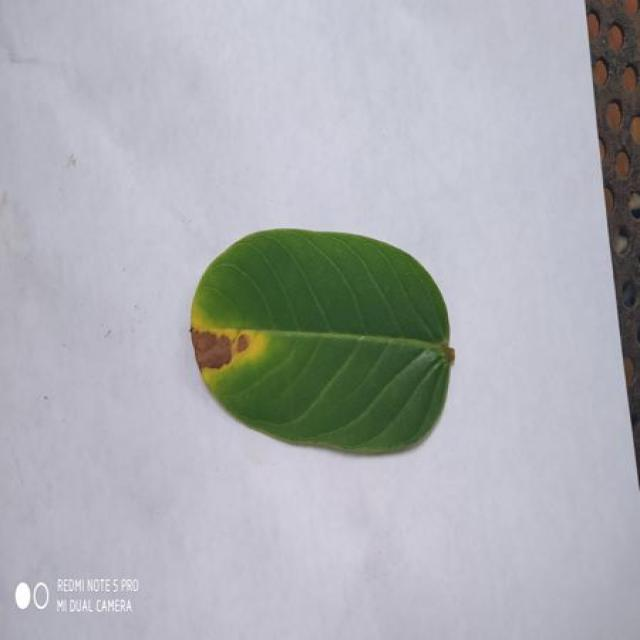chakte: (192, 229, 453, 453)
seedling blight: (192, 319, 322, 432)
